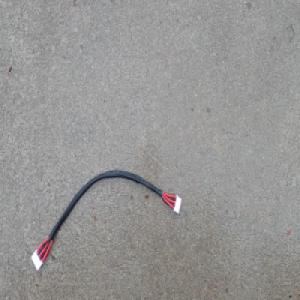Wire: (30, 168, 182, 272)
